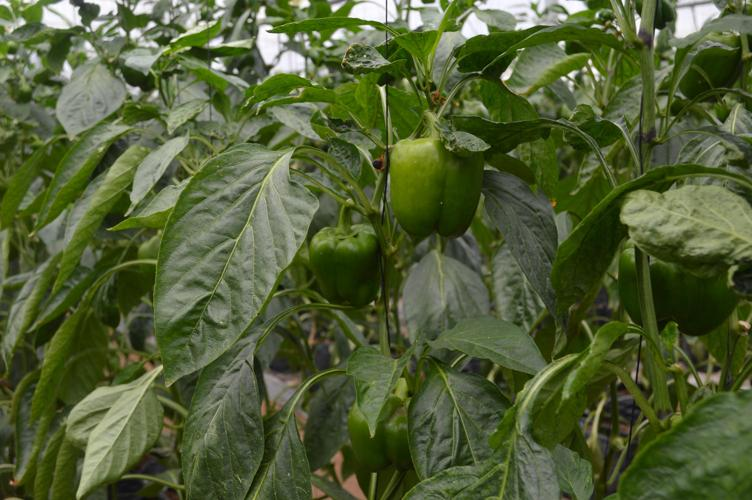BellPepper: (615, 249, 737, 335), (388, 136, 484, 240), (304, 226, 380, 308), (341, 391, 414, 472), (673, 35, 738, 106)
